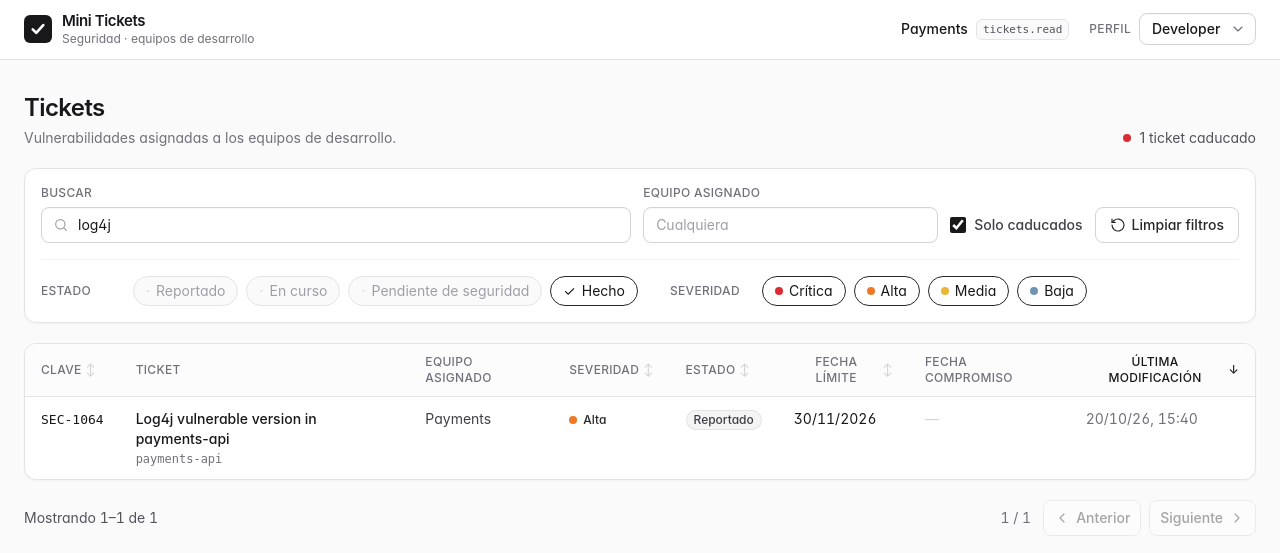
Scenario: filters › "Limpiar filtros" goes back to the default list
This screenshot has width=1280, height=553.
Check: the table is shown, box [25,344,1255,479]
Click the button "Limpiar filtros": (1167, 225) [1095,207,1239,243]
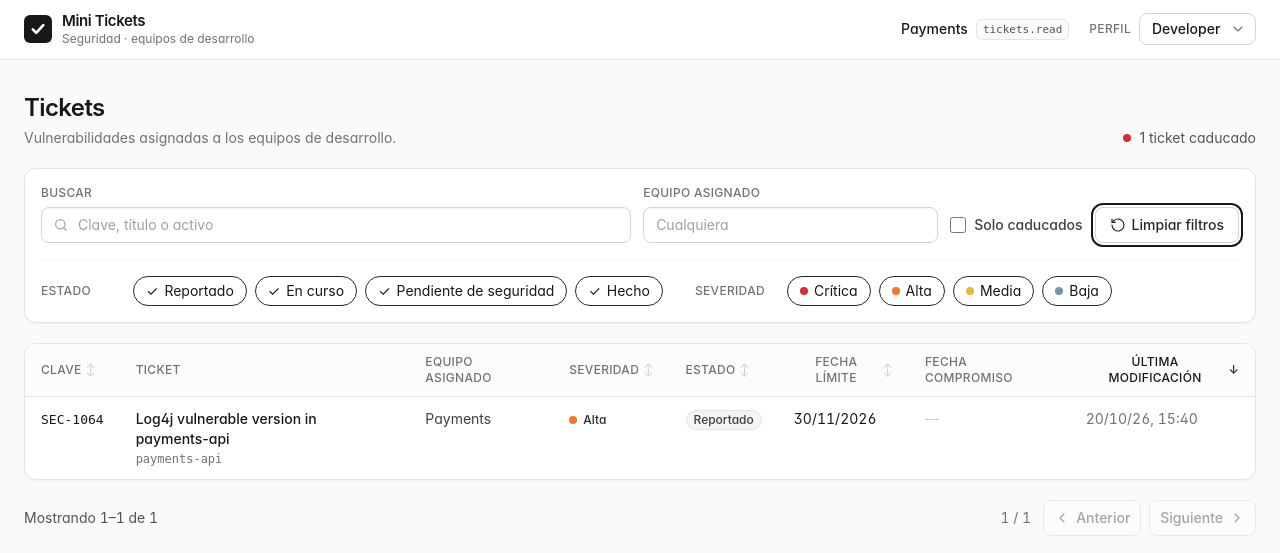
Check: the search field labelled "Buscar" is empty, box [41,207,631,243]
